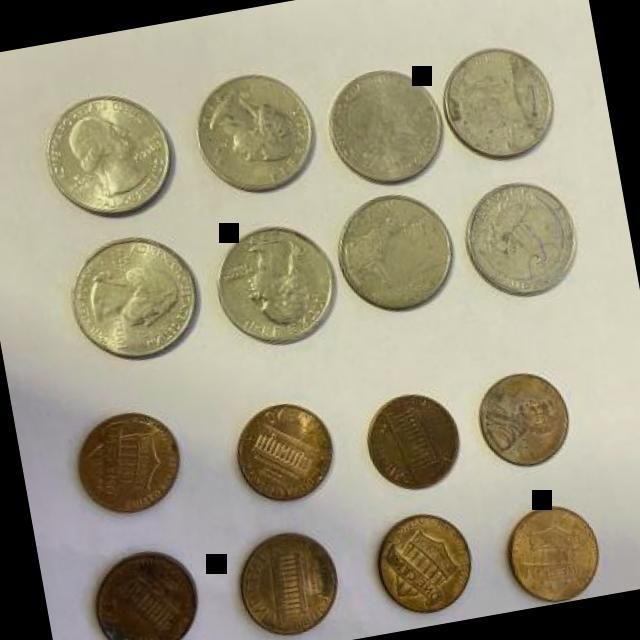Penny: (67, 402, 189, 521), (230, 522, 347, 640), (372, 506, 485, 623), (356, 384, 468, 496), (82, 541, 208, 640), (498, 497, 610, 608), (231, 395, 341, 508), (470, 364, 578, 476)
Quarter: (58, 222, 210, 372), (34, 84, 184, 228), (205, 214, 348, 356), (190, 64, 324, 204), (317, 60, 453, 195), (330, 187, 464, 321), (455, 175, 586, 306), (434, 36, 562, 166)
